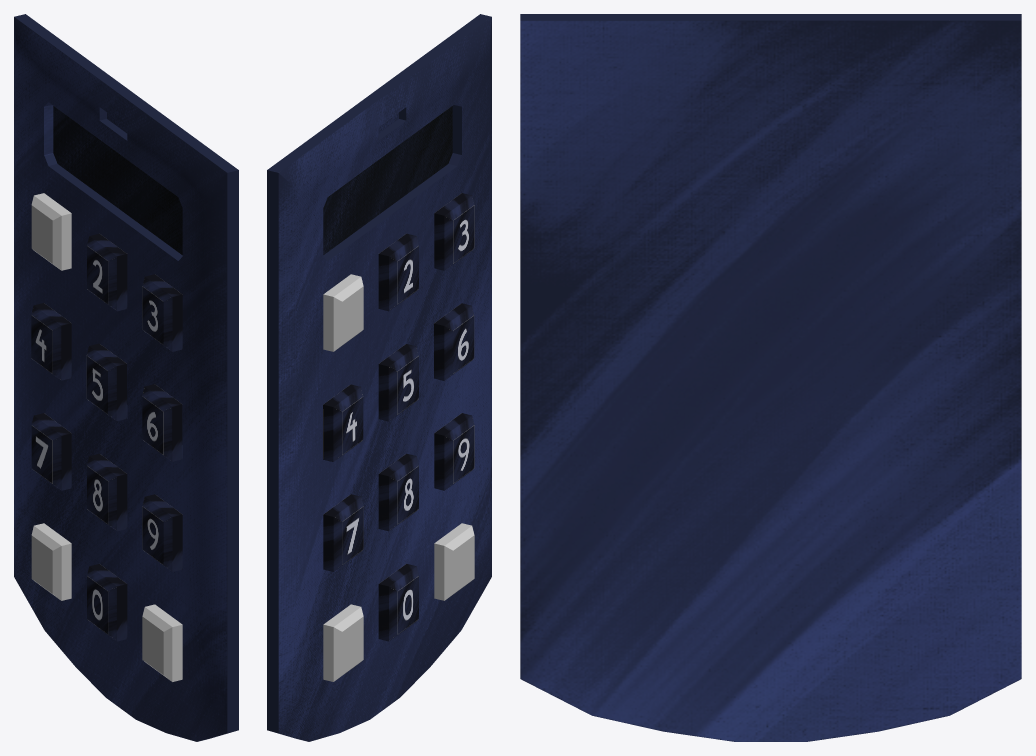
Rendered from ciselnik 114.fbx.
3 renders of one model, left to right at view 1: azimuth 30°, elevation 25°; view 2: azimuth 150°, elevation 25°; view 3: azimuth 270°, elevation 25°, orthographic. The views are drawn at different scales.
Parts seen in each view (by area): view 1: Ciselnik_telo, Ciselnik_cislo_0, Ciselnik_cislo_8, Ciselnik_cislo_2, Ciselnik_cislo_4, Ciselnik_cislo_6, Ciselnik_cislo_3, Ciselnik_cislo_9, Ciselnik_cislo_hastag, Ciselnik_cislo_7, Ciselnik_cislo_hvezda, Ciselnik_cislo_1 (+1 smaller); view 2: Ciselnik_telo, Ciselnik_cislo_0, Ciselnik_cislo_2, Ciselnik_cislo_8, Ciselnik_cislo_5, Ciselnik_cislo_7, Ciselnik_cislo_1, Ciselnik_cislo_hvezda, Ciselnik_cislo_4, Ciselnik_cislo_3, Ciselnik_cislo_9, Ciselnik_cislo_hastag (+1 smaller); view 3: Ciselnik_telo.
Part boxes in pixels (x1,y1,x2,y2): Ciselnik_telo: [14, 14, 238, 741]; Ciselnik_cislo_0: [87, 564, 127, 641]; Ciselnik_cislo_8: [87, 453, 127, 531]; Ciselnik_cislo_2: [87, 233, 127, 311]; Ciselnik_cislo_4: [31, 303, 71, 380]; Ciselnik_cislo_6: [142, 384, 182, 461]; Ciselnik_cislo_3: [142, 274, 182, 351]; Ciselnik_cislo_9: [142, 494, 182, 571]; Ciselnik_cislo_hastag: [142, 604, 182, 681]; Ciselnik_cislo_7: [31, 413, 71, 490]; Ciselnik_cislo_hvezda: [31, 523, 71, 600]; Ciselnik_cislo_1: [31, 193, 71, 270]; Ciselnik_telo: [267, 14, 491, 741]; Ciselnik_cislo_0: [378, 563, 418, 641]; Ciselnik_cislo_2: [378, 233, 418, 311]; Ciselnik_cislo_8: [378, 453, 418, 531]; Ciselnik_cislo_5: [378, 344, 418, 421]; Ciselnik_cislo_7: [323, 494, 363, 571]; Ciselnik_cislo_1: [323, 274, 363, 351]; Ciselnik_cislo_hvezda: [323, 604, 363, 681]; Ciselnik_cislo_4: [323, 384, 363, 461]; Ciselnik_cislo_3: [434, 193, 474, 270]; Ciselnik_cislo_9: [434, 413, 474, 490]; Ciselnik_cislo_hastag: [434, 523, 474, 600]; Ciselnik_telo: [520, 14, 1021, 741].
Size of the model in its own units: 5.13 by 86.7 by 54.61.
